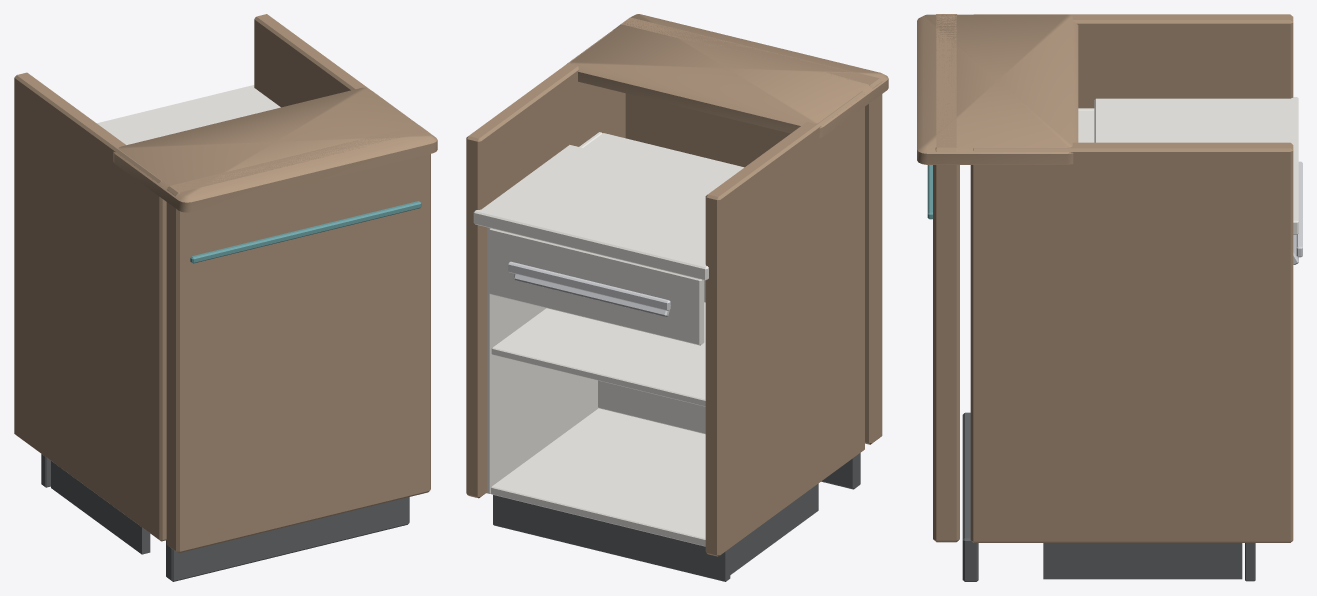
File: hotel-and-resort-operations-check-in-desk-module-b3548e1e__25850.glb
3 renders of one model, left to right at view 1: azimuth 30°, elevation 25°; view 2: azimuth 150°, elevation 25°; view 3: azimuth 270°, elevation 25°, orthographic. The views are drawn at different scales.
Visible parts, largest first — view 1: check-in-desk-module; view 2: check-in-desk-module, drawer-till/carcass, drawer-till/metal; view 3: check-in-desk-module, drawer-till/metal.
Boxes of the visible parts, left/top/right/bottom form: check-in-desk-module: left=14, top=14, right=437, bottom=581; check-in-desk-module: left=466, top=14, right=888, bottom=581; drawer-till/carcass: left=489, top=228, right=704, bottom=345; drawer-till/metal: left=508, top=261, right=670, bottom=316; check-in-desk-module: left=917, top=14, right=1298, bottom=581; drawer-till/metal: left=1293, top=161, right=1302, bottom=264.
Size of the model in its own units: 0.606 by 0.9 by 0.718.
